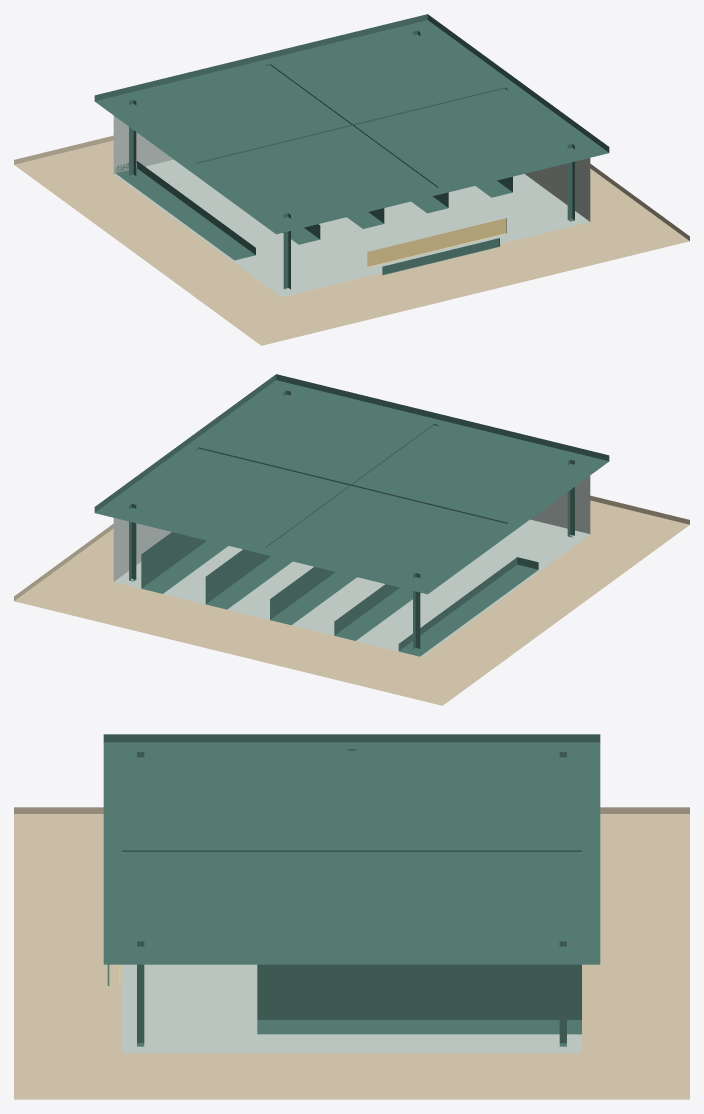
Rendered from mine.glb.
3 views of the same model, one above another, from view 1: azimuth 30°, elevation 25°; view 2: azimuth 150°, elevation 25°; view 3: azimuth 270°, elevation 25° (orthographic). The views are drawn at different scales.
Parts seen in each view (by area): view 1: Roof, Foundation, Walls, Details, Frame; view 2: Roof, Foundation, Walls, Details, Frame; view 3: Roof, Foundation, Details, Walls, Frame.
Part boxes in pixels (x1=…): Roof: x1=94, y1=14, x2=609, y2=234; Foundation: x1=14, y1=135, x2=689, y2=345; Walls: x1=113, y1=116, x2=590, y2=297; Details: x1=115, y1=161, x2=512, y2=275; Frame: x1=129, y1=30, x2=574, y2=289; Roof: x1=94, y1=374, x2=609, y2=594; Foundation: x1=14, y1=495, x2=689, y2=705; Walls: x1=113, y1=476, x2=590, y2=657; Details: x1=141, y1=532, x2=538, y2=656; Frame: x1=129, y1=390, x2=574, y2=649; Roof: x1=103, y1=734, x2=600, y2=964; Foundation: x1=14, y1=807, x2=689, y2=1099; Details: x1=107, y1=964, x2=581, y2=1034; Walls: x1=122, y1=964, x2=581, y2=1053; Frame: x1=122, y1=749, x2=581, y2=1046.
Bounding box in the file's own units: 60 × 10.94 × 60.
